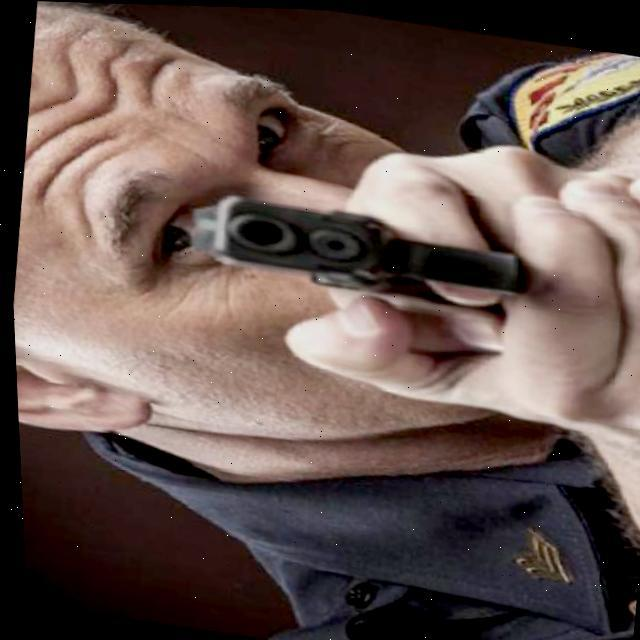gun: (184, 183, 530, 318)
